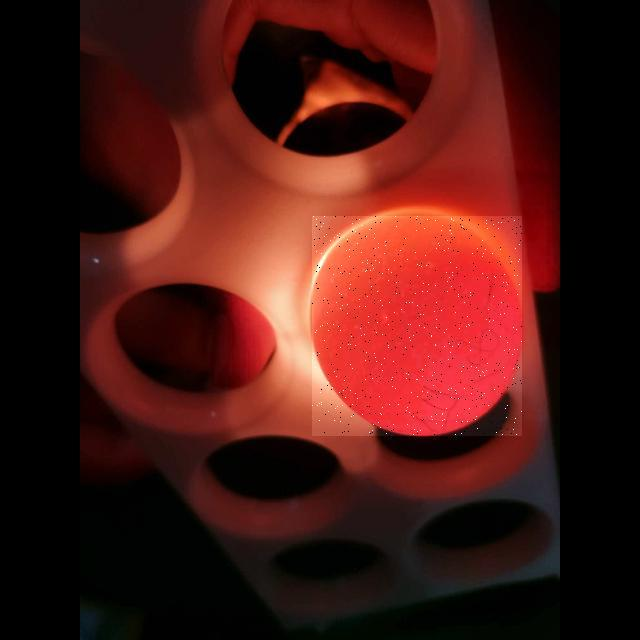Infertile: (312, 216, 522, 436)
